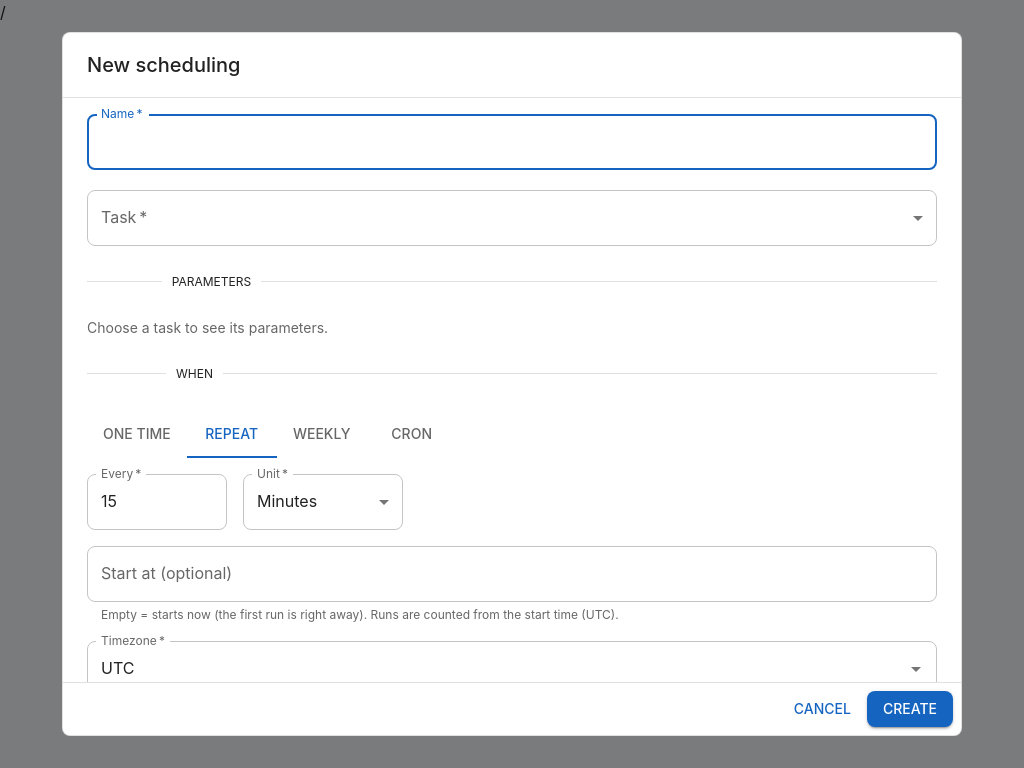
SchedulingFormDialog — create › validates on the client before sending anything
Click the button "Create". click: (910, 709)
box: [867, 690, 953, 727]
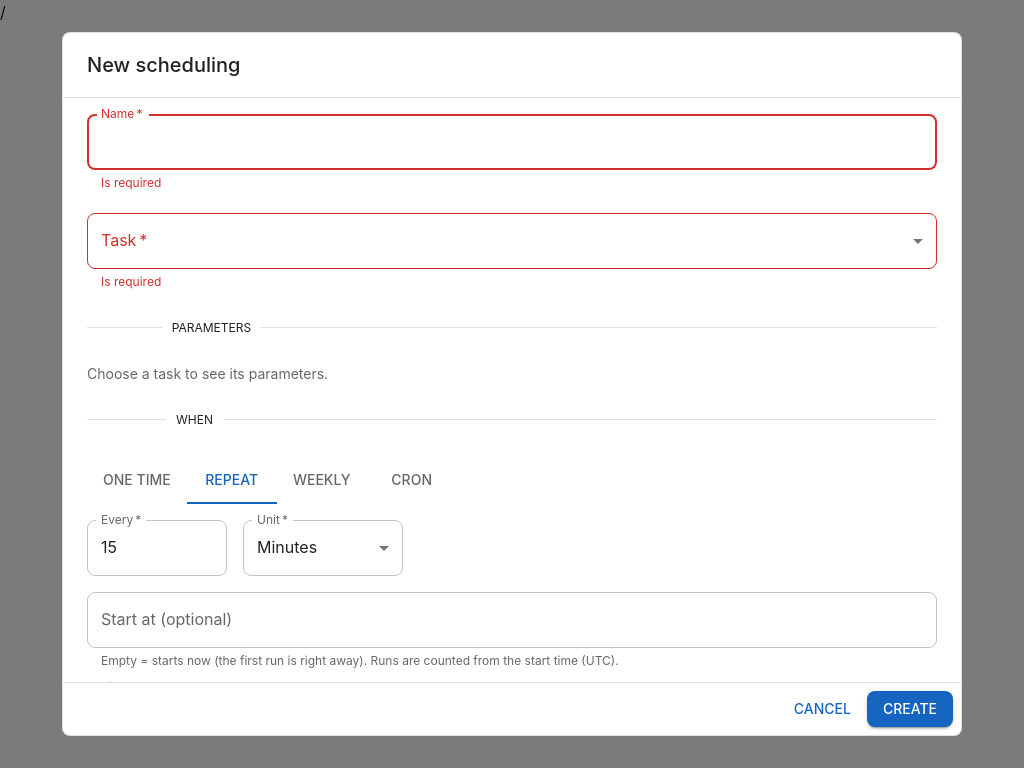
Expected: the text "Is required" is shown 2 times, [101, 175, 161, 190]; [101, 274, 161, 289]
